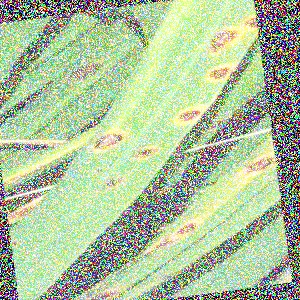Bacterial_Leaf_Blight: (202, 18, 242, 62), (200, 54, 240, 89), (60, 57, 111, 84), (232, 150, 276, 181), (167, 100, 213, 129), (86, 128, 133, 156), (127, 141, 167, 165), (76, 284, 127, 300), (239, 3, 257, 42), (171, 219, 203, 239), (100, 172, 127, 194), (5, 239, 24, 251), (158, 271, 176, 282), (90, 164, 106, 176)
